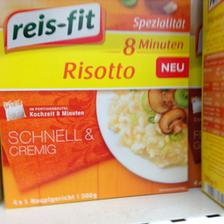Reis: (0, 0, 190, 208)
